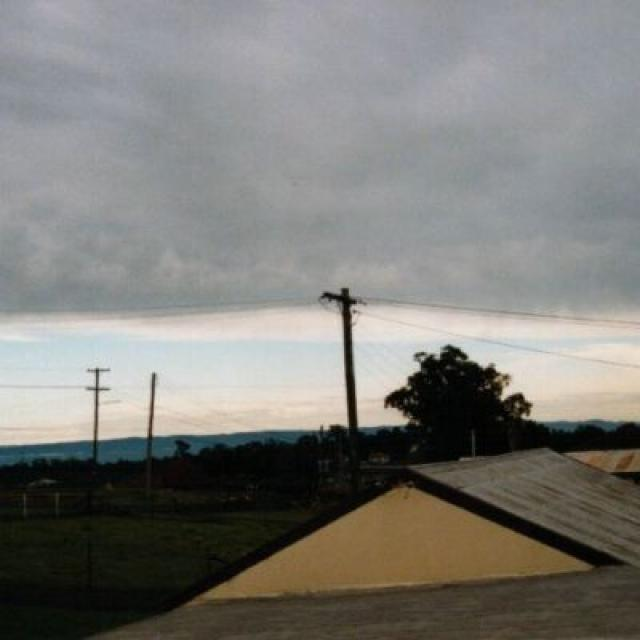Ns: (1, 1, 640, 289)
